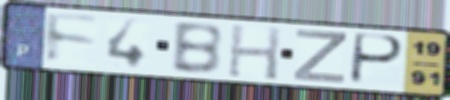4: (105, 16, 151, 71)
B: (169, 21, 226, 77)
F: (43, 10, 103, 66)
H: (225, 22, 284, 82)
P: (346, 31, 407, 87)
Z: (290, 28, 349, 85)
